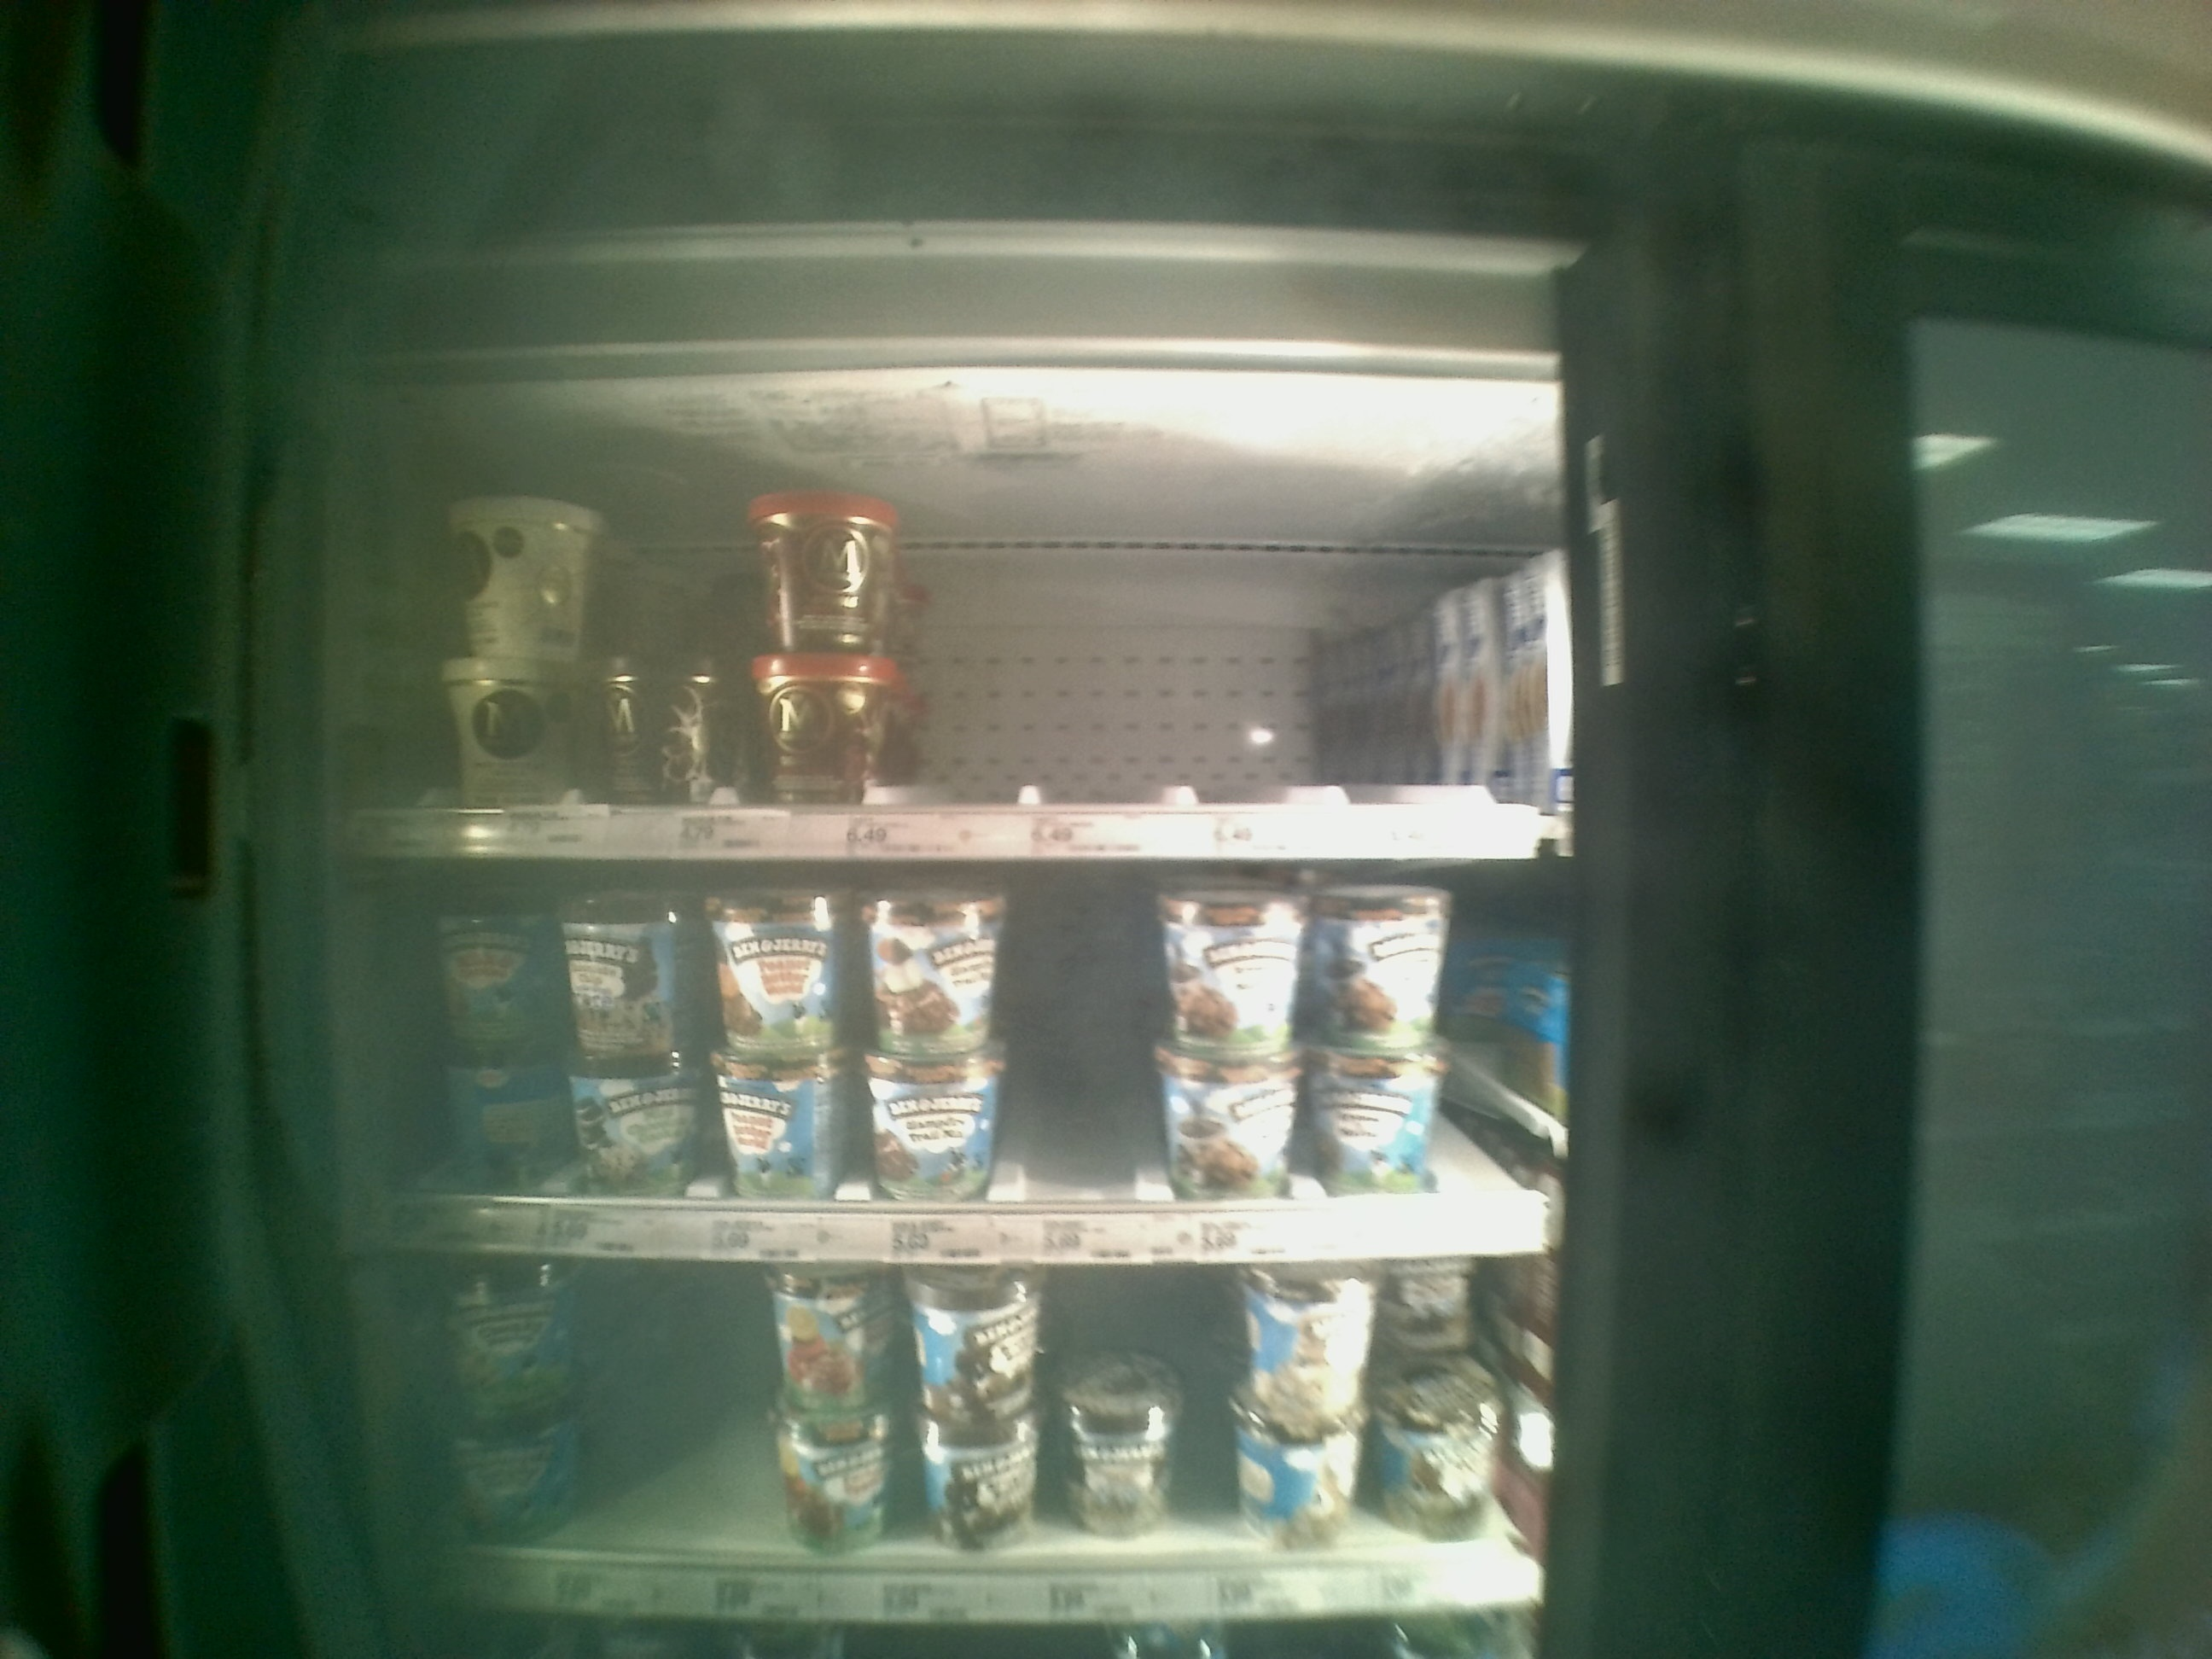ice-cream-shelf: (341, 403, 1578, 852), (340, 843, 1569, 1253)
